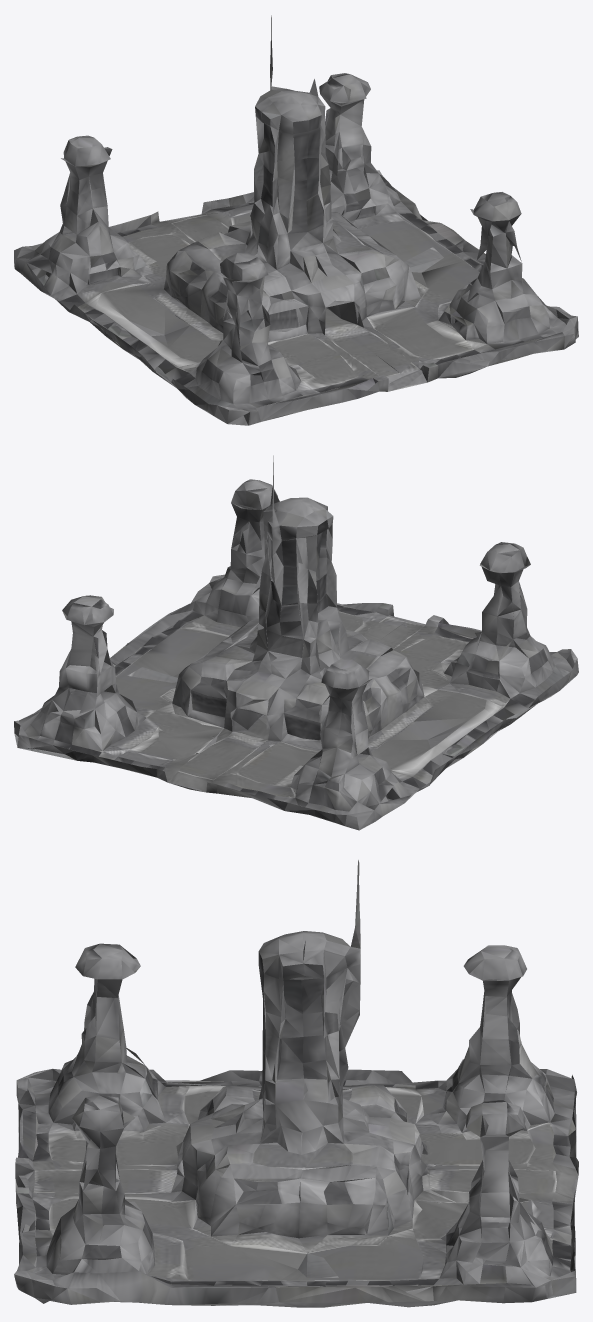
File: shared_planetary_shield_compound_lod2.glb
3 views of the same model, one above another, from view 1: azimuth 30°, elevation 25°; view 2: azimuth 150°, elevation 25°; view 3: azimuth 270°, elevation 25° (orthographic). The views are drawn at different scales.
Parts seen in each view (by area): view 1: mesh_node; view 2: mesh_node; view 3: mesh_node.
Part boxes in pixels (<box>): mesh_node: <box>14,15,578,425</box>; mesh_node: <box>14,455,578,830</box>; mesh_node: <box>14,860,578,1307</box>.
Size of the model in its own units: 30.41 by 21.95 by 33.04.
Materials: 1 (1 with a texture image).
